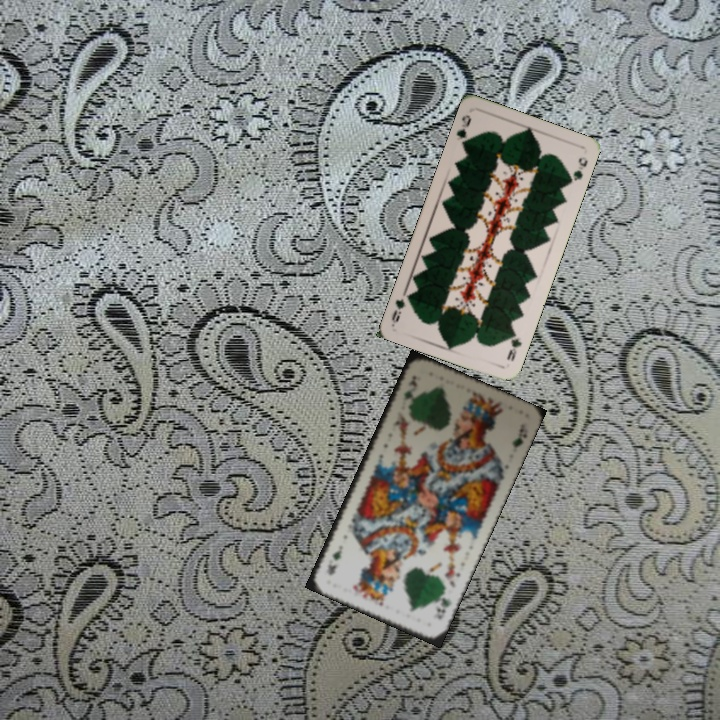G9: (452, 110, 474, 150), (503, 326, 524, 364)
GK: (400, 371, 423, 409), (430, 587, 454, 622)
